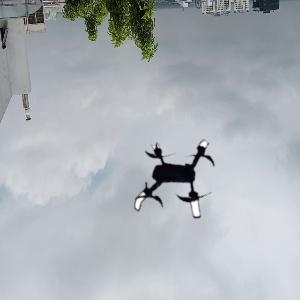drone: (127, 134, 228, 235)
